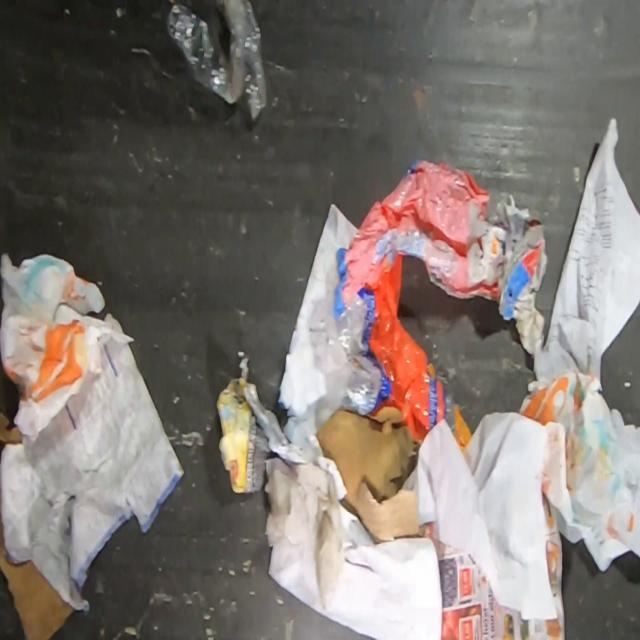cardboard: (315, 405, 427, 545)
soft_plastic: (327, 159, 500, 450), (161, 0, 269, 122)
